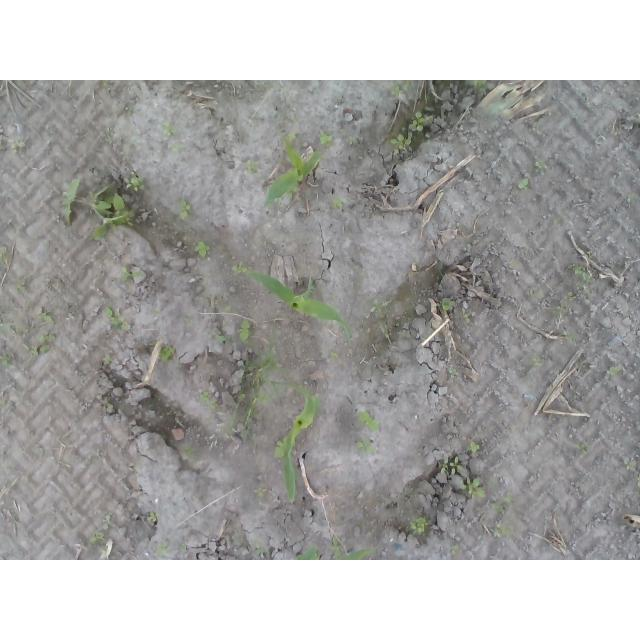Maize: (246, 269, 354, 344), (280, 380, 321, 504), (265, 145, 320, 208), (296, 542, 372, 560)
Weeds: (61, 173, 146, 243), (239, 336, 290, 389), (228, 388, 272, 448), (21, 328, 55, 356), (368, 299, 392, 338), (389, 125, 414, 155), (567, 263, 594, 290), (458, 474, 486, 498), (354, 408, 380, 432), (406, 110, 434, 132), (488, 96, 513, 120), (436, 454, 464, 475), (406, 515, 430, 537), (385, 80, 414, 97), (623, 455, 640, 481), (198, 390, 219, 411), (120, 265, 141, 286), (491, 494, 513, 514), (10, 136, 27, 161), (463, 81, 490, 96), (104, 305, 121, 328), (159, 344, 178, 363), (355, 438, 378, 453), (194, 238, 211, 258), (176, 199, 193, 219), (209, 328, 228, 345), (489, 524, 512, 538), (240, 317, 252, 343), (318, 130, 334, 149), (36, 309, 56, 324), (15, 279, 32, 296), (153, 542, 170, 558), (160, 119, 176, 136), (244, 158, 261, 174), (101, 511, 114, 531), (232, 262, 253, 274), (440, 297, 456, 312), (577, 439, 591, 456), (281, 131, 296, 146), (252, 486, 269, 499), (90, 532, 107, 545), (561, 330, 578, 343), (0, 351, 12, 369), (100, 398, 114, 413), (466, 441, 480, 456), (103, 127, 114, 146), (253, 543, 267, 557), (1, 322, 16, 335), (563, 291, 578, 304), (331, 194, 344, 209), (101, 353, 114, 368), (535, 158, 545, 177), (168, 143, 185, 153), (626, 192, 636, 209), (447, 367, 457, 384), (180, 446, 193, 459), (530, 353, 542, 367), (0, 245, 8, 265), (450, 542, 463, 554), (609, 367, 623, 378), (146, 511, 158, 523), (516, 178, 528, 190), (347, 135, 361, 145), (177, 542, 188, 554), (127, 103, 137, 114), (127, 462, 137, 473), (551, 215, 561, 226), (223, 303, 233, 313), (329, 352, 338, 361), (464, 312, 473, 320), (587, 251, 593, 262)
